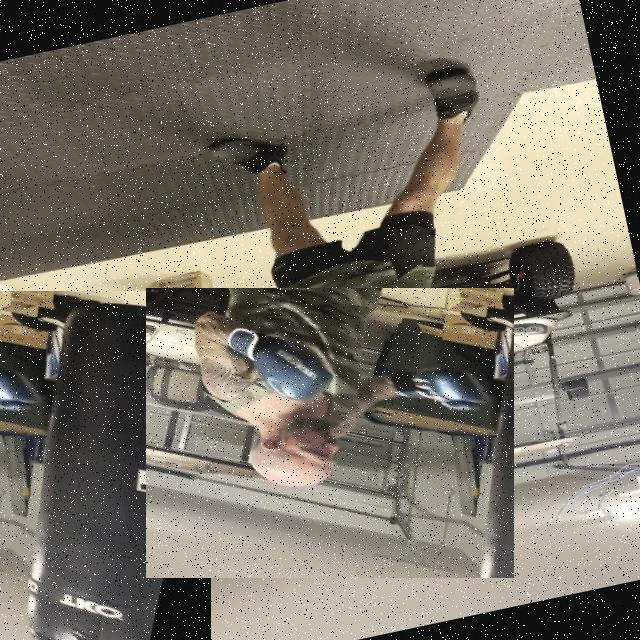punch: (146, 288, 514, 578)
